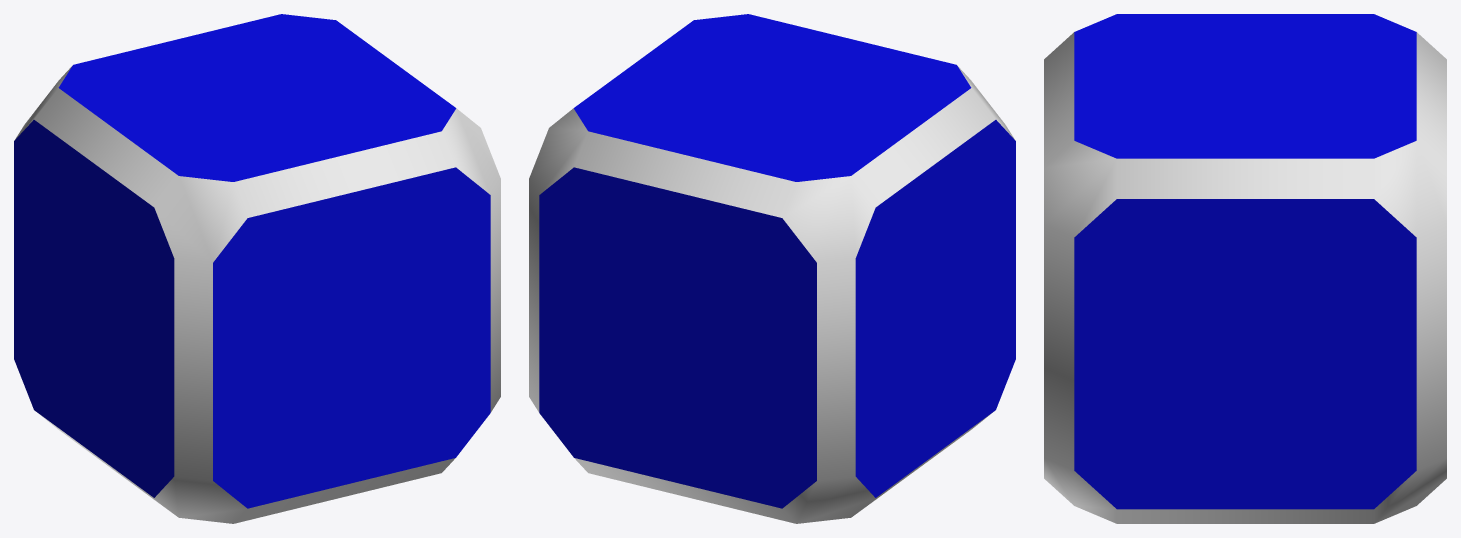
The model's file is D6_Beveled.fbx.
The picture shows the model from 3 angles, left to right: view 1: azimuth 30°, elevation 25°; view 2: azimuth 150°, elevation 25°; view 3: azimuth 270°, elevation 25°; orthographic projection. The views are drawn at different scales.
Visible parts, largest first — view 1: D6_Beveled; view 2: D6_Beveled; view 3: D6_Beveled.
Boxes of the visible parts, x1=… form: D6_Beveled: x1=14, y1=14, x2=500, y2=523; D6_Beveled: x1=529, y1=14, x2=1015, y2=523; D6_Beveled: x1=1044, y1=14, x2=1446, y2=523.
Bounding box in the file's own units: 109 × 109 × 109.
